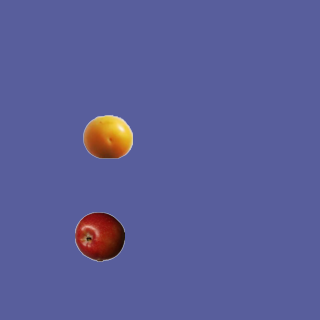Apple Braeburn: (74, 211, 124, 261)
Cherry Wax Yellow: (82, 111, 132, 161)
